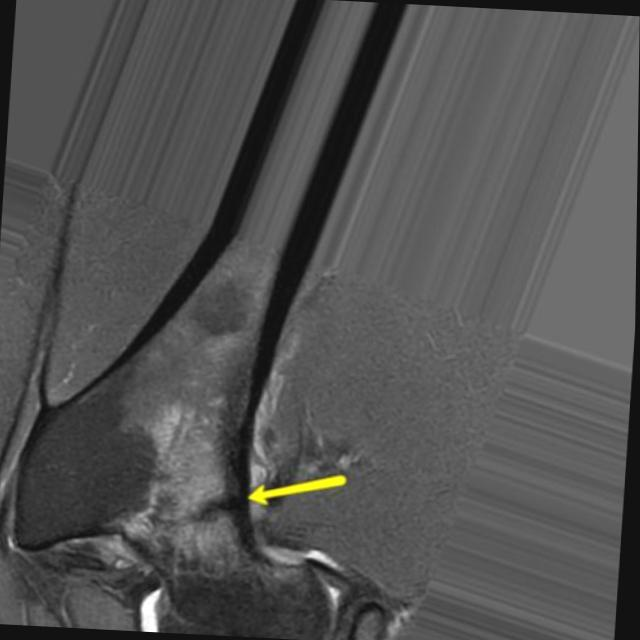Transverse Displaced: (154, 481, 247, 549)
